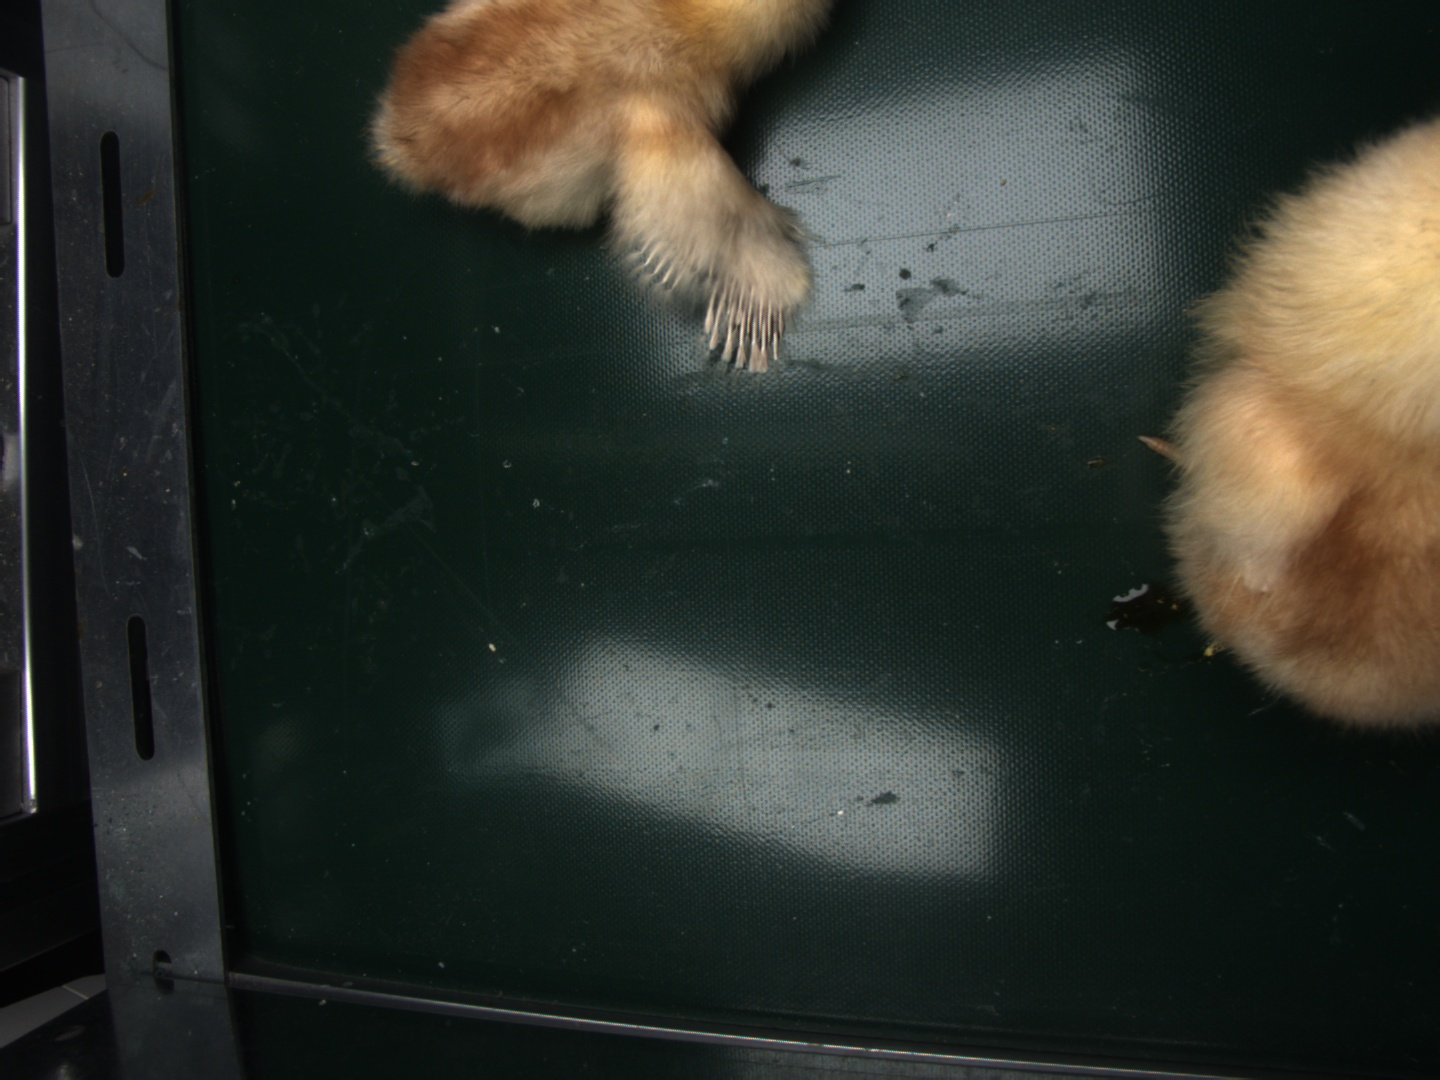female: (700, 265, 786, 373)
